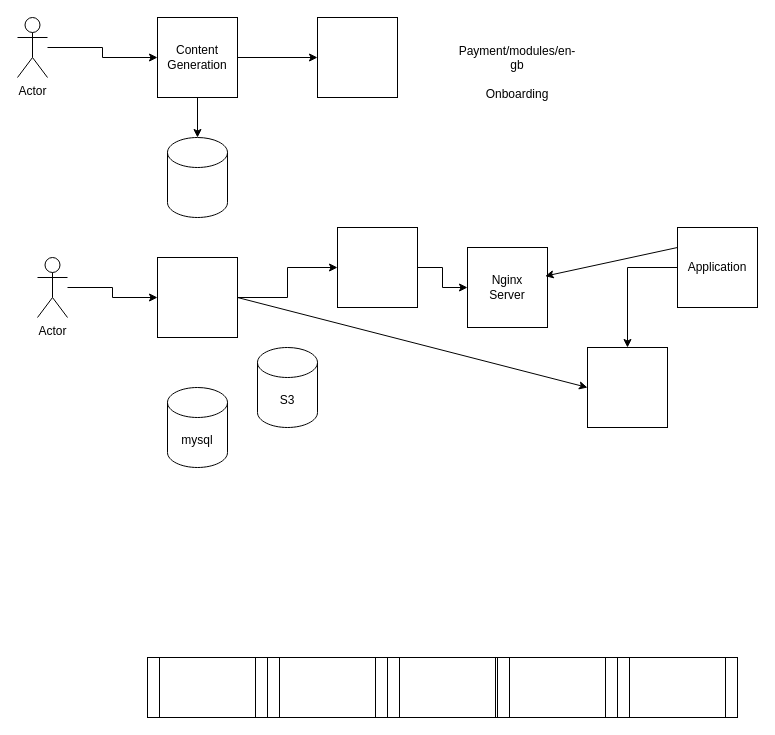
The diagram is 775 pixels wide and 735 high, and some of its shapes have lost their labels. The box of each missing label's shape, as (x1, y1, x2, y2) in pixels:
CDN as cache: (586, 346, 668, 428)
content mgmt: (156, 256, 238, 338)
LLMs: (316, 16, 398, 98)
NAS Servers: (336, 226, 418, 308)
